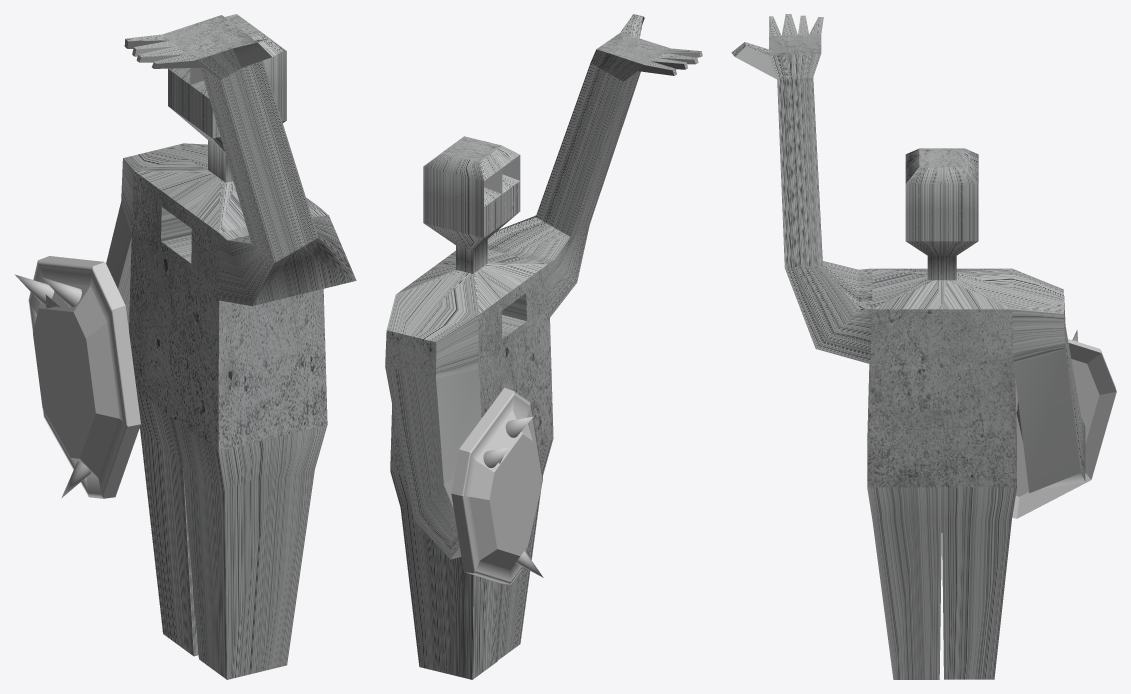
The model's file is Final_Boss.fbx.
3 renders of one model, left to right at view 1: azimuth 30°, elevation 25°; view 2: azimuth 150°, elevation 25°; view 3: azimuth 270°, elevation 25°, orthographic. The views are drawn at different scales.
Visible parts, largest first — view 1: pCube6, pCone4; view 2: pCube6, pCone4; view 3: pCube6, pCone4.
Boxes of the visible parts, box(x1,y1,x2,y2) form: pCube6: box(45, 14, 356, 679); pCone4: box(15, 256, 140, 498); pCube6: box(385, 14, 702, 679); pCone4: box(451, 387, 543, 584); pCube6: box(731, 14, 1085, 679); pCone4: box(1012, 330, 1116, 518).
Size of the model in its own units: 1.1 by 3.19 by 1.89.
